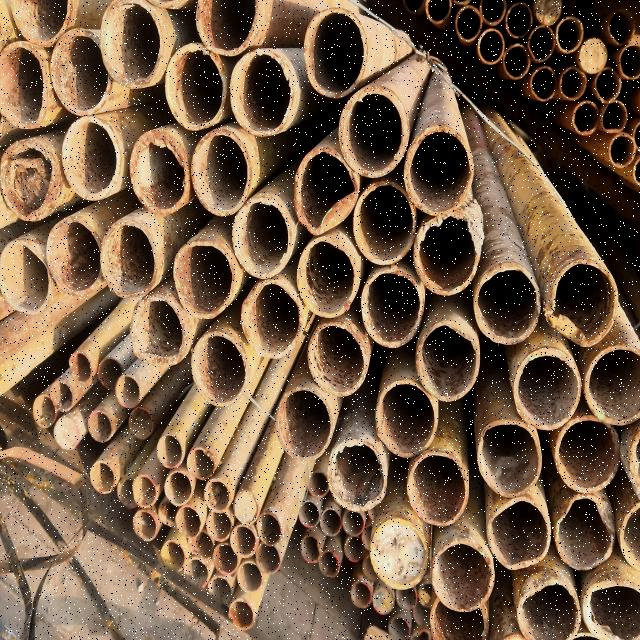pipe: (339, 86, 409, 176), (548, 260, 618, 347), (405, 126, 473, 214), (100, 1, 166, 87), (294, 148, 359, 235), (514, 348, 582, 431), (414, 212, 482, 295), (303, 9, 367, 95), (553, 416, 624, 493), (474, 266, 542, 346), (230, 52, 294, 136), (230, 198, 294, 280), (50, 28, 108, 118), (479, 420, 544, 500), (165, 46, 228, 128), (552, 492, 618, 570), (416, 324, 480, 404), (354, 183, 416, 264), (191, 130, 251, 213), (486, 497, 552, 572), (62, 116, 120, 201), (129, 132, 189, 214), (173, 240, 239, 314), (1, 137, 58, 222), (368, 517, 431, 593), (376, 380, 438, 457), (362, 271, 424, 348), (296, 240, 358, 316), (242, 280, 302, 356), (406, 454, 469, 526), (100, 220, 159, 296), (434, 542, 496, 614), (585, 346, 640, 426), (0, 42, 51, 126), (48, 216, 101, 296), (328, 440, 388, 510), (308, 324, 366, 396), (130, 292, 187, 364), (276, 387, 332, 460), (516, 580, 582, 640), (0, 239, 52, 314), (194, 333, 248, 405), (582, 576, 640, 640), (194, 1, 258, 56), (429, 592, 494, 640), (7, 0, 73, 46), (156, 430, 186, 470), (454, 4, 484, 44), (578, 36, 610, 72), (506, 2, 536, 40), (187, 443, 217, 480), (556, 16, 585, 54), (570, 102, 602, 136), (608, 8, 638, 44), (372, 580, 400, 618), (504, 42, 532, 80), (477, 28, 505, 66), (608, 133, 636, 170), (594, 67, 624, 101), (530, 66, 560, 100), (529, 26, 558, 61), (204, 478, 232, 514), (559, 68, 589, 100), (164, 472, 192, 506), (602, 100, 630, 134), (233, 490, 260, 525), (97, 356, 123, 392), (257, 512, 283, 546), (132, 508, 158, 542), (115, 374, 141, 408), (175, 506, 202, 538), (68, 350, 95, 382), (132, 474, 158, 507), (228, 598, 256, 628), (212, 544, 240, 574), (205, 511, 233, 541), (423, 0, 453, 28), (256, 542, 282, 574), (160, 539, 186, 571), (231, 526, 257, 558), (128, 406, 154, 438), (348, 580, 374, 612), (88, 410, 113, 443), (92, 460, 116, 494), (54, 415, 78, 449), (32, 393, 56, 427), (237, 561, 263, 592), (184, 558, 210, 588), (50, 381, 76, 411), (188, 531, 215, 559), (316, 548, 341, 578), (117, 476, 139, 510), (208, 575, 234, 603), (158, 501, 184, 529), (395, 584, 420, 612), (620, 46, 640, 80), (342, 509, 366, 536), (296, 502, 320, 528), (344, 534, 366, 562), (308, 470, 330, 498), (300, 536, 321, 564), (479, 0, 507, 21), (388, 616, 412, 640), (413, 602, 435, 628), (322, 511, 344, 537)
